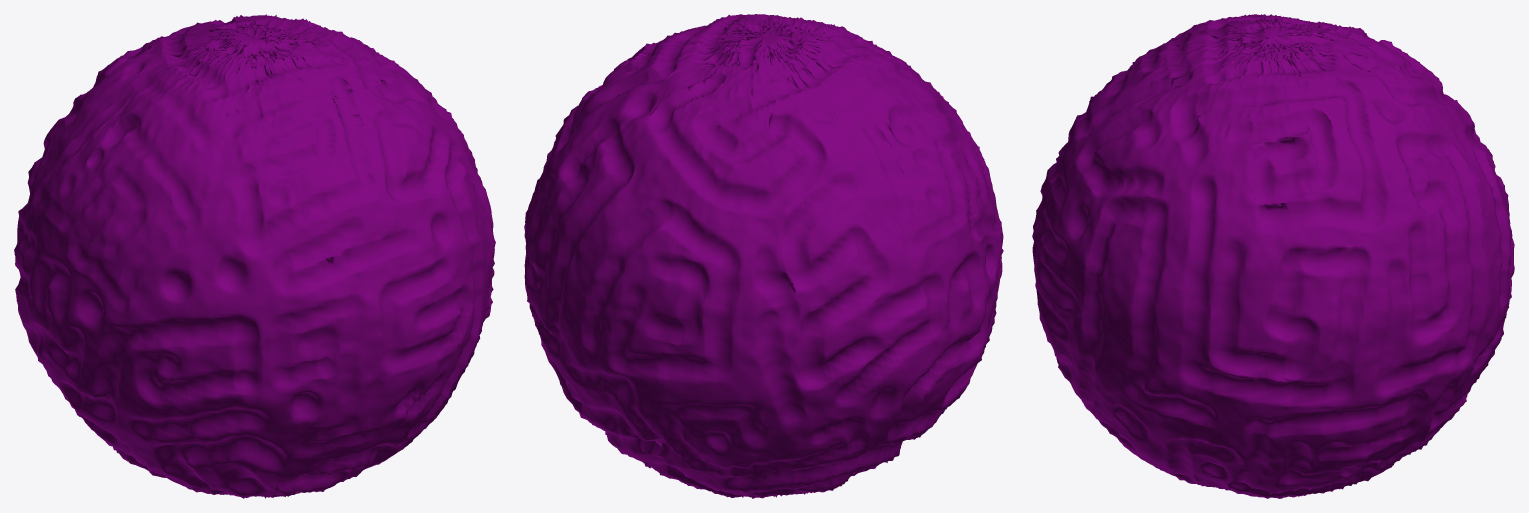
The model's file is Artifact01.fbx.
3 views of the same model, side by side, from view 1: azimuth 30°, elevation 25°; view 2: azimuth 150°, elevation 25°; view 3: azimuth 270°, elevation 25° (orthographic).
Visible parts, largest first — view 1: Artifact_LOD0; view 2: Artifact_LOD0; view 3: Artifact_LOD0.
Part boxes in pixels (x1,y1,x2,y2): Artifact_LOD0: (14,14,495,498); Artifact_LOD0: (524,14,1003,498); Artifact_LOD0: (1032,14,1514,498).
Size of what is drawn, in the model's own units: 192 by 195 by 193.
